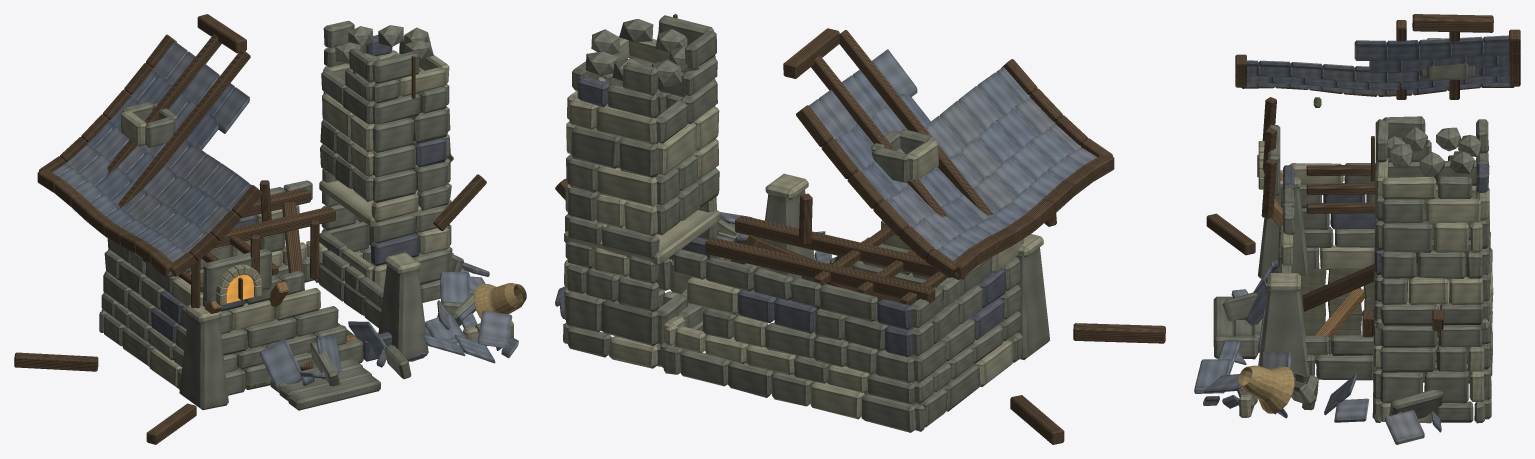
The model's file is ruin.glb.
3 renders of one model, left to right at view 1: azimuth 30°, elevation 25°; view 2: azimuth 150°, elevation 25°; view 3: azimuth 270°, elevation 25°, orthographic. The views are drawn at different scales.
Visible parts, largest first — view 1: Family_ruin; view 2: Family_ruin; view 3: Family_ruin.
Part boxes in pixels (box(x1,y1,x2,y2)): Family_ruin: box(14, 14, 526, 444); Family_ruin: box(555, 14, 1165, 444); Family_ruin: box(1194, 14, 1520, 444).
Size of the model in its own units: 9.86 by 6.12 by 5.85.
2 materials, 2 textured.
